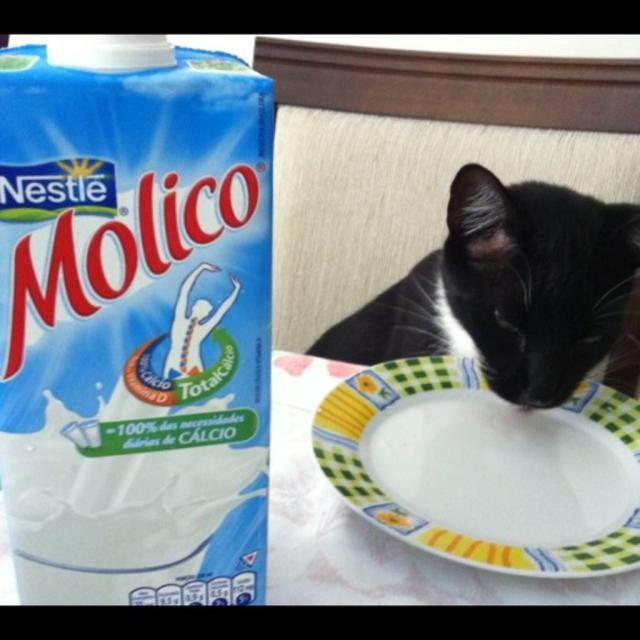Milk: (0, 369, 273, 603), (372, 402, 628, 548)
